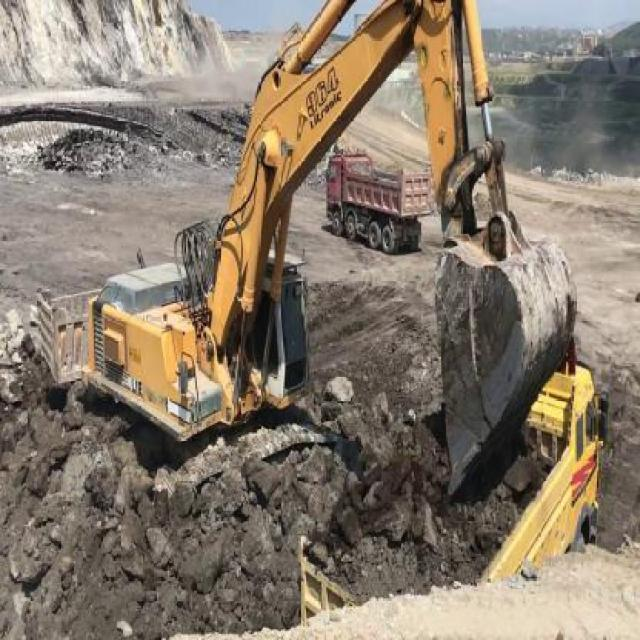dump_truck: (300, 357, 606, 612), (326, 148, 429, 249), (34, 281, 100, 397)
excavator: (83, 0, 579, 503)
